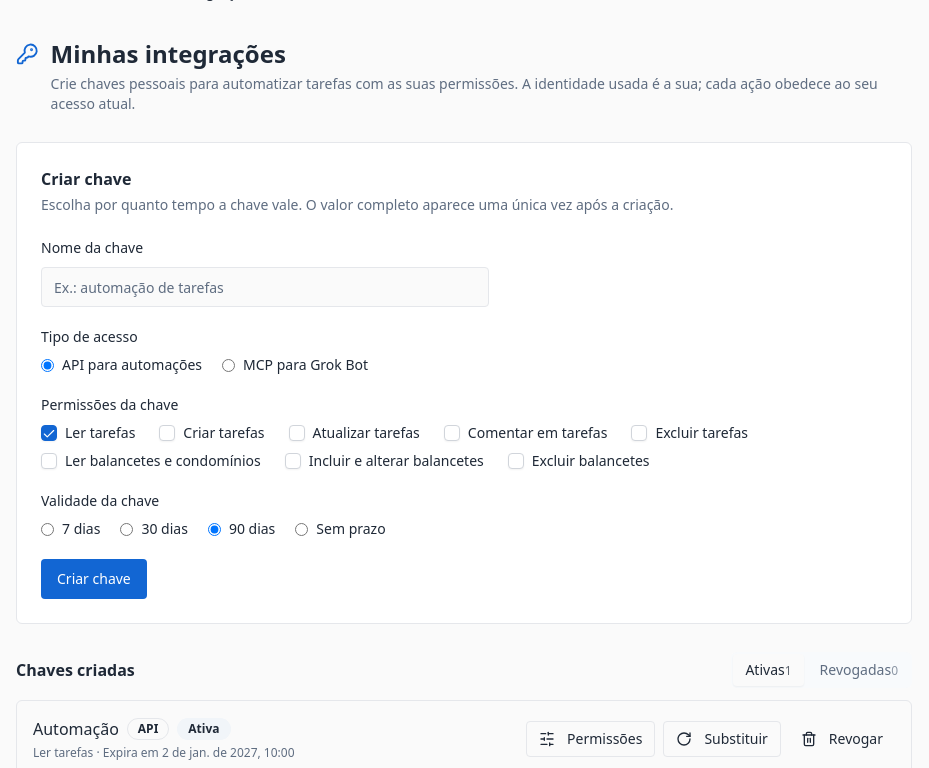
Test: personal integration keys › creates a replacement before revoking the previous key
The image size is (929, 768).
Click the button "Substituir". click: (722, 739)
box: [663,721,781,757]
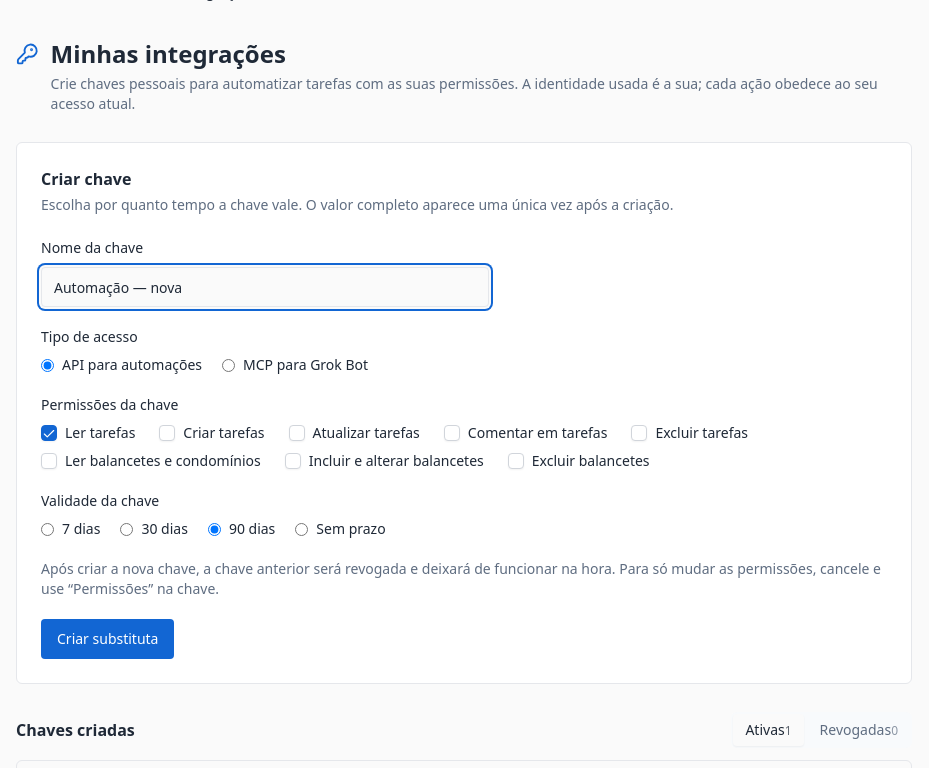
Click the button "Criar substituta". click: (108, 639)
box: [41,619,174,659]
(page scrolled)
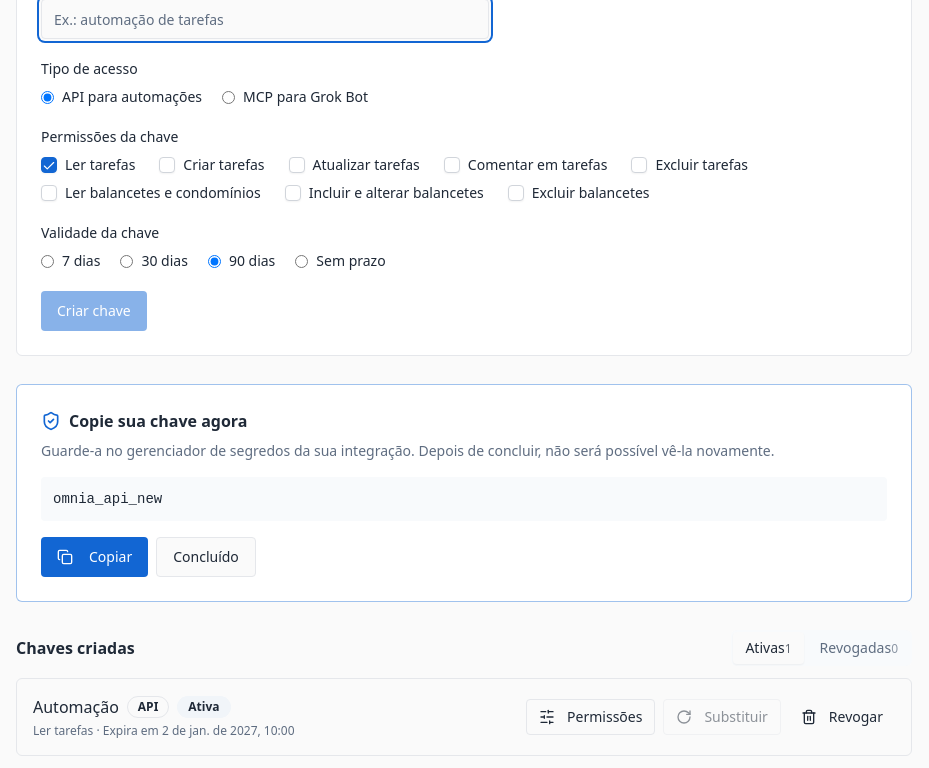
Now the text "omnia_api_new" is shown, box [41,477,887,521]
